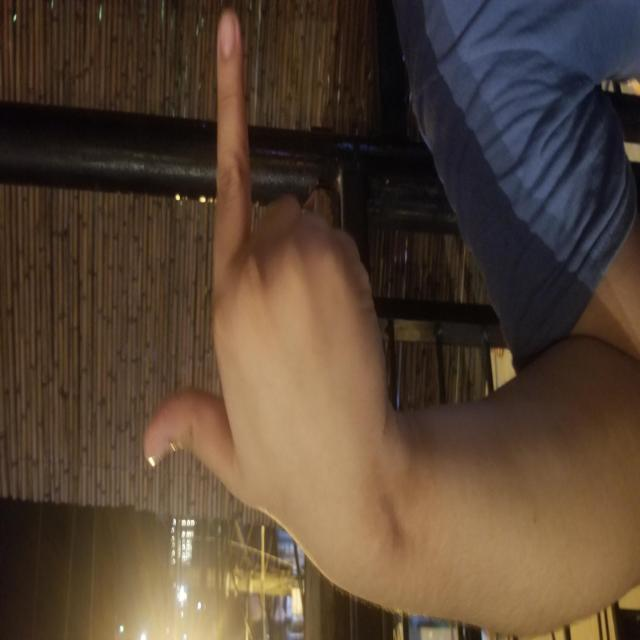G: (128, 143, 630, 380)
